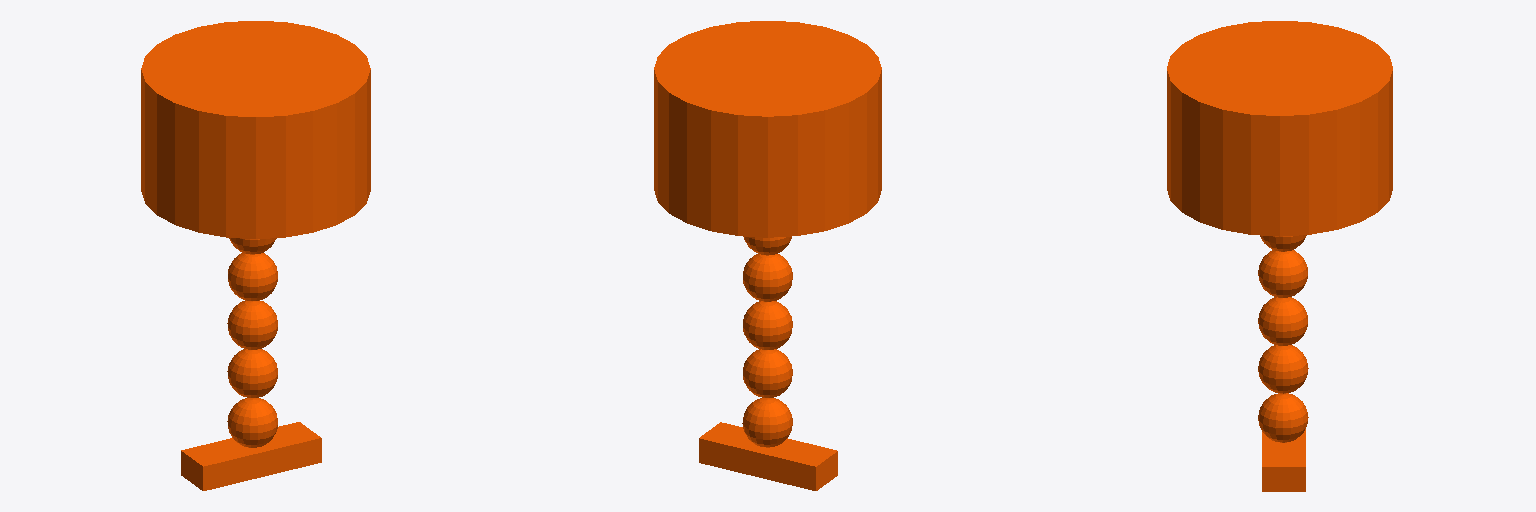
URDF robot description (TableLamp_5675aff305d80082e7e684d25d4dcaf0):
<?xml version="1.0" ?>
<robot name="TableLamp_5675aff305d80082e7e684d25d4dcaf0">
   <material name="obj_color">
      <color rgba="1.0 0.423529411765 0.0392156862745 1.0"/>
   </material>
   <link name="top">
      <inertial>
         <origin rpy="1.321294292690093e-05 3.671292208557282e-05 3.767838494256597e-05" xyz="6.693721329672287e-05 -0.0001149213441211733 0.003632266199930451"/>
         <mass value="0.07409124688488647"/>
         <inertia ixx="3.671105701449874e-05" ixy="2.25087280752004e-09" ixz="-2.093383989683436e-07" iyy="3.767481112126504e-05" iyz="2.956580818308305e-07" izz="1.321838181927595e-05"/>
      </inertial>
      <visual>
         <origin rpy="0 0 0" xyz="0 0 0"/>
         <geometry>
            <mesh filename="top_watertight_tiny.stl" scale="1 1 1"/>
         </geometry>
         <material name="obj_color"/>
      </visual>
      <collision>
         <origin rpy="0 0 0" xyz="0 0 0"/>
         <geometry>
            <mesh filename="top_watertight_tiny.obj" scale="1 1 1"/>
         </geometry>
      </collision>
   </link>
   <link name="bottom">
      <inertial>
         <origin rpy="1.633333333199431e-08 1.633333333199431e-08 1.633333333362855e-08" xyz="0.3464080000000008 0.3464080000000008 0.3464080000000008"/>
         <mass value="0.0009800000000000017"/>
         <inertia ixx="1.633333333253906e-08" ixy="5.447480642029219e-19" ixz="5.447480642029219e-19" iyy="1.633333333253906e-08" iyz="5.447480642029219e-19" izz="1.633333333253906e-08"/>
      </inertial>
      <visual>
         <origin rpy="0 0 0" xyz="0 0 0"/>
         <geometry>
            <mesh filename="bottom_watertight_tiny.stl" scale="1 1 1"/>
         </geometry>
         <material name="obj_color"/>
      </visual>
   </link>
   <joint name="rotation" type="revolute">
      <origin xyz="0 0 0"/>
      <axis xyz="0 0 -1"/>
      <parent link="bottom"/>
      <child link="top"/>
      <dynamics damping="1.0" friction="1.0"/>
      <limit effort="0.1" velocity="0.1" lower="0" upper="0.001"/>
   </joint>
</robot>

--- What the picture shows (computed from the rendered views, not written in the file) ---
3 views of the same robot in one strip: view 1: azimuth 30°, elevation 25°; view 2: azimuth 150°, elevation 25°; view 3: azimuth 270°, elevation 25° (orthographic).
Model TableLamp_5675aff305d80082e7e684d25d4dcaf0 with 2 links and 1 joints (1 revolute), rooted at bottom, posed every joint at zero.
Visible links, largest first — view 1: top; view 2: top; view 3: top.
Link boxes in pixels (x1,y1,x2,y2): top: (141, 21, 370, 490); top: (654, 21, 881, 490); top: (1167, 21, 1392, 491).
Size in the robot's own frame: 0.0419 by 0.0419 by 0.0807 metres.
1 mesh visuals loaded from 2 distinct referenced files (1 binary STL); not drawn: 1 (reference not matched to a file when rendering).
